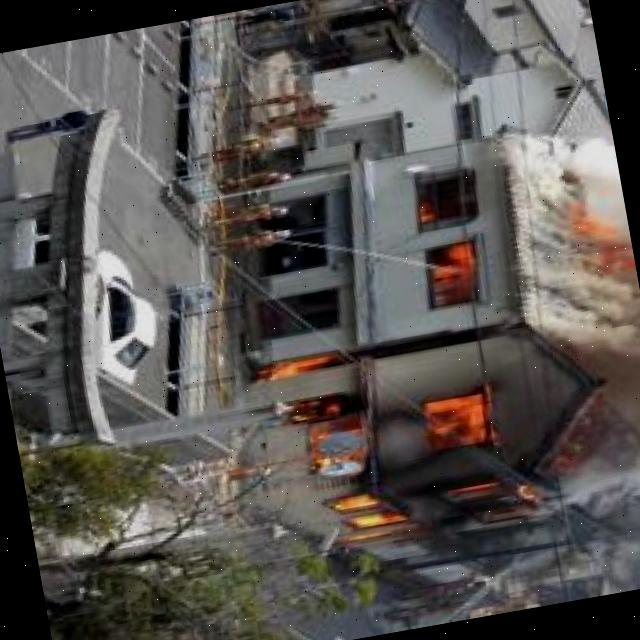fire: (245, 312, 541, 580), (405, 180, 481, 314), (550, 192, 638, 295)
